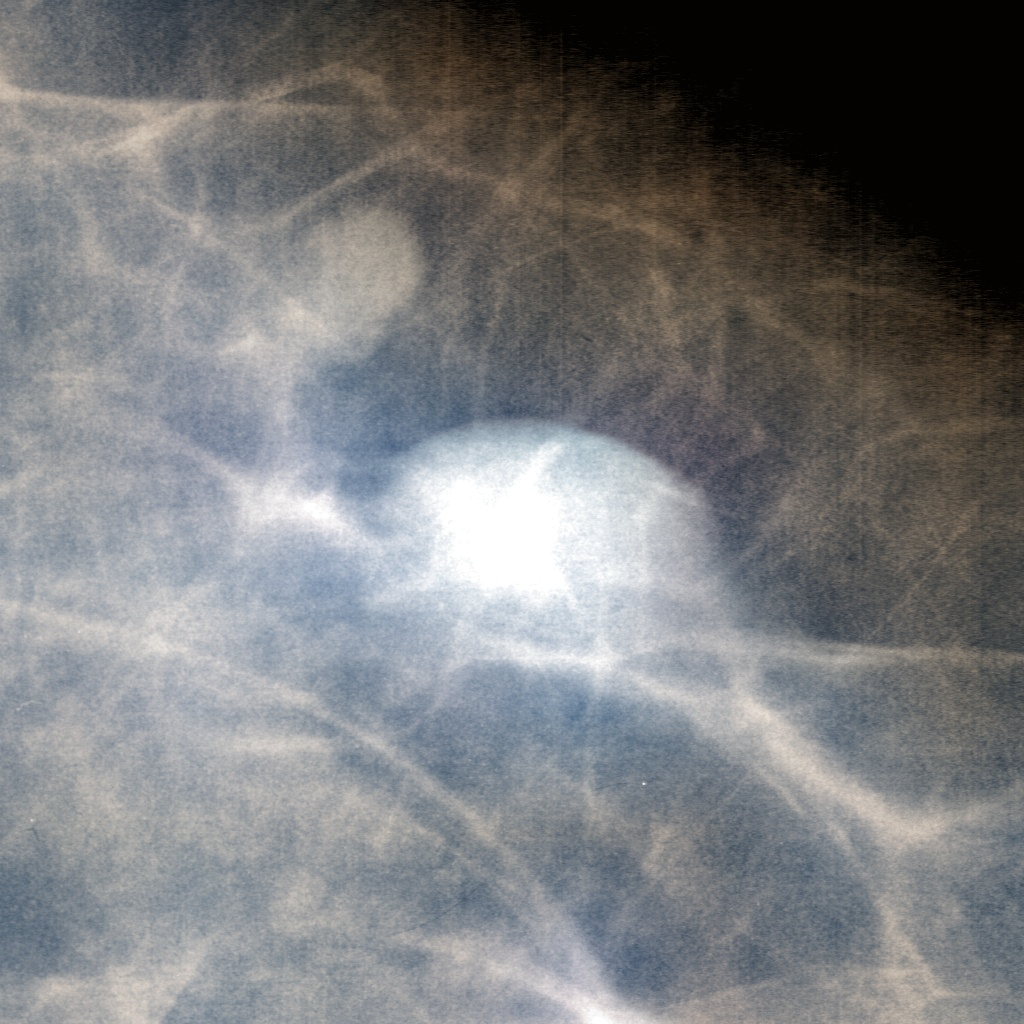tumor: (384, 410, 640, 614)
